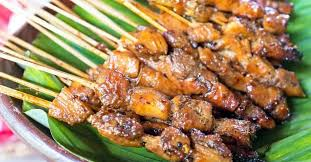sate: (22, 3, 311, 159)
